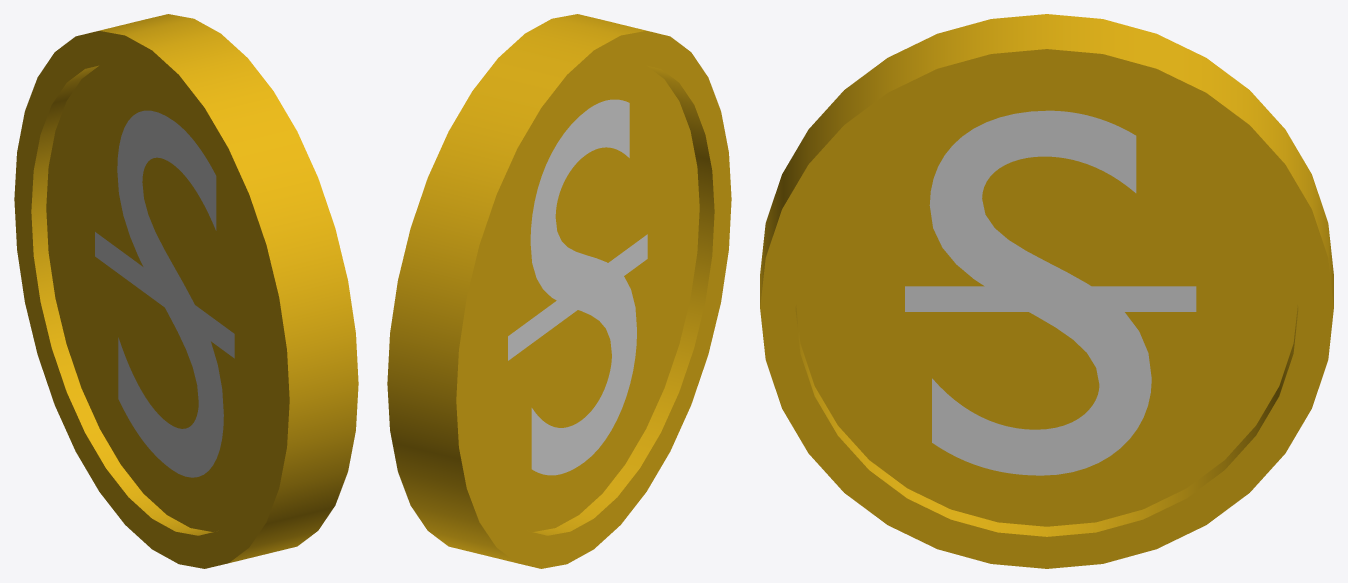
Rendered from suscoin.fbx.
3 views of the same model, side by side, from view 1: azimuth 30°, elevation 25°; view 2: azimuth 150°, elevation 25°; view 3: azimuth 270°, elevation 25° (orthographic). The views are drawn at different scales.
Parts seen in each view (by area): view 1: Cylinder, Text.003, Text.002; view 2: Cylinder, Text.003, Text.002; view 3: Cylinder, Text, Text.001.
Boxes of the visible parts, x1,y1,x2,y2 form: Cylinder: (14,14,358,568); Text.003: (117,110,223,477); Text.002: (95,232,234,358); Cylinder: (387,14,731,568); Text.003: (530,99,636,475); Text.002: (508,234,647,360); Cylinder: (760,14,1333,568); Text: (929,110,1151,475); Text.001: (905,286,1196,311).
Bounding box in the file's own units: 28.89 × 200 × 200.
